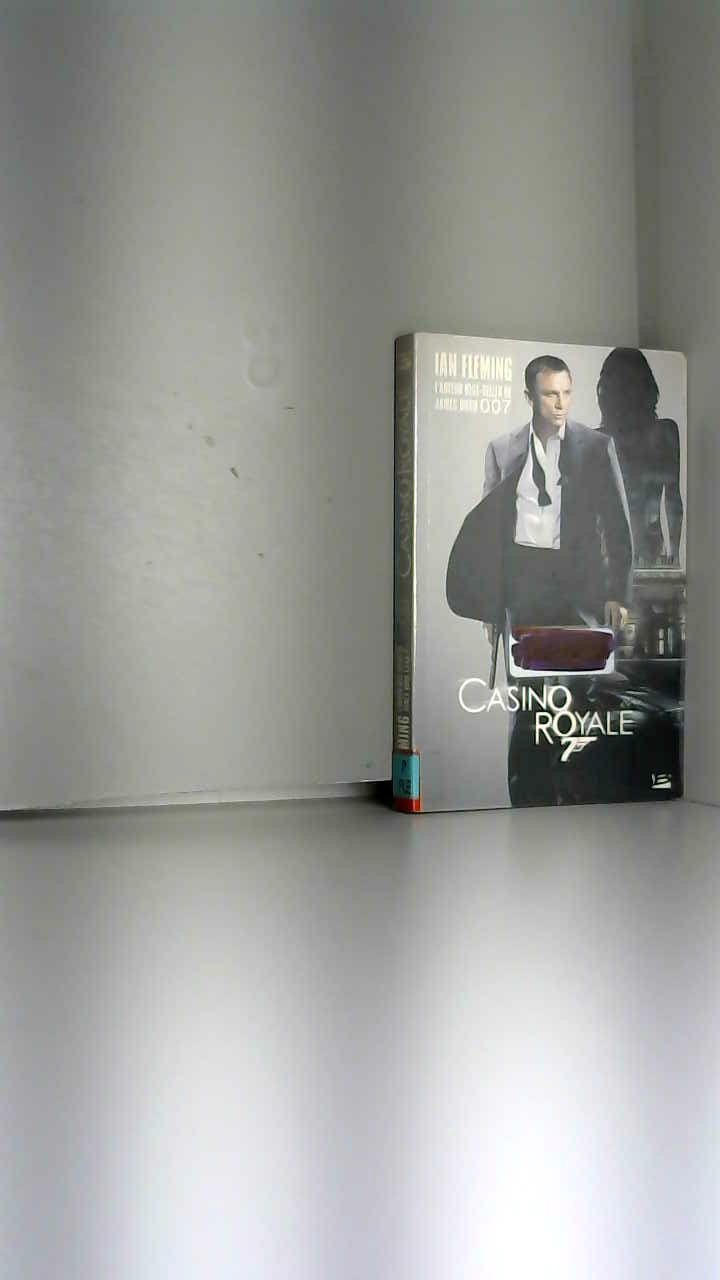book: (360, 310, 715, 844)
